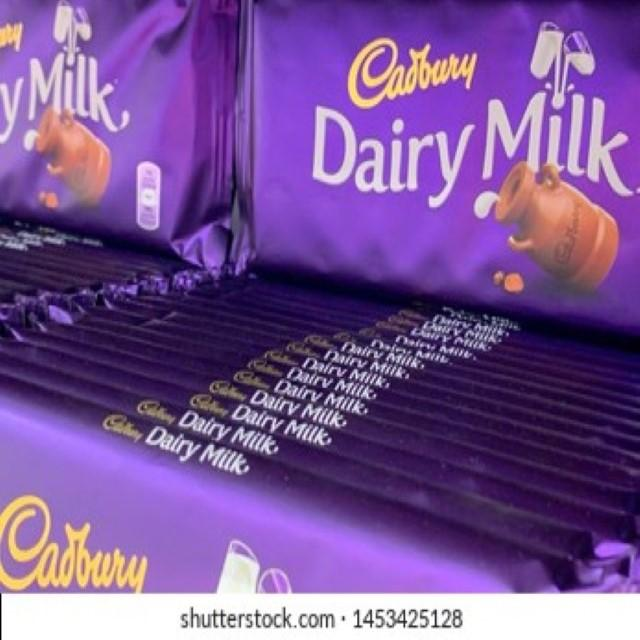cadbury_chocolate: (0, 395, 608, 618), (242, 3, 637, 338), (2, 3, 230, 277)
